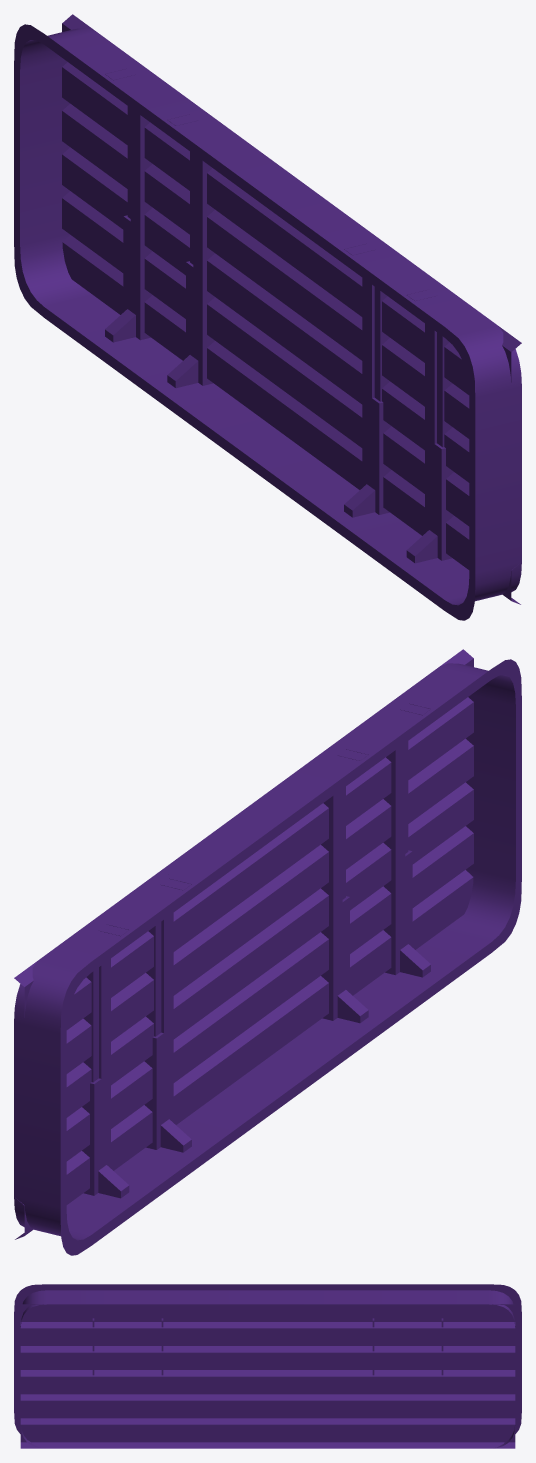
The model's file is Wall_Win_Cover_A.FBX.
3 renders of one model, top to bottom at view 1: azimuth 30°, elevation 25°; view 2: azimuth 150°, elevation 25°; view 3: azimuth 270°, elevation 25°, orthographic. The views are drawn at different scales.
Visible parts, largest first — view 1: Wall_Win_Cover_A; view 2: Wall_Win_Cover_A; view 3: Wall_Win_Cover_A.
Part boxes in pixels (bbox=[...]): Wall_Win_Cover_A: bbox=[14, 14, 521, 620]; Wall_Win_Cover_A: bbox=[14, 649, 521, 1255]; Wall_Win_Cover_A: bbox=[14, 1284, 521, 1448].
Size of the model in its own units: 25 by 129 by 380.
